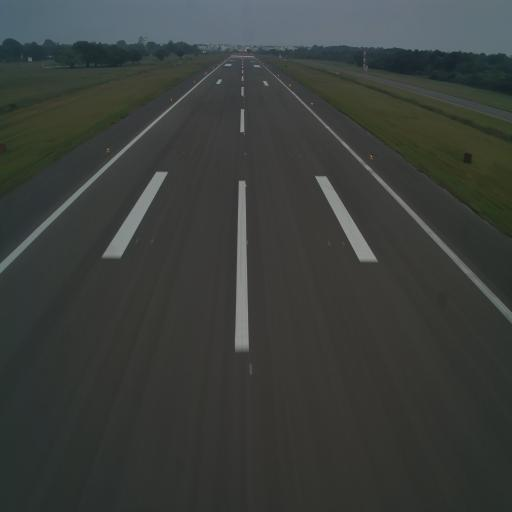off: (340, 237, 348, 250), (133, 236, 141, 247), (326, 238, 332, 250), (149, 236, 155, 246), (172, 149, 178, 157), (297, 152, 301, 160), (290, 152, 293, 161), (306, 153, 309, 160), (182, 150, 185, 156), (190, 150, 193, 156)
on: (247, 354, 255, 378), (245, 237, 250, 248), (369, 152, 375, 160), (243, 180, 247, 190), (106, 146, 111, 154), (243, 150, 247, 159), (242, 128, 246, 136)
